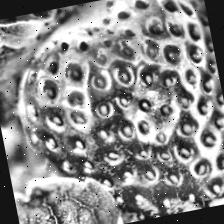Anthracnose Fruit Rot: (109, 58, 201, 150)
